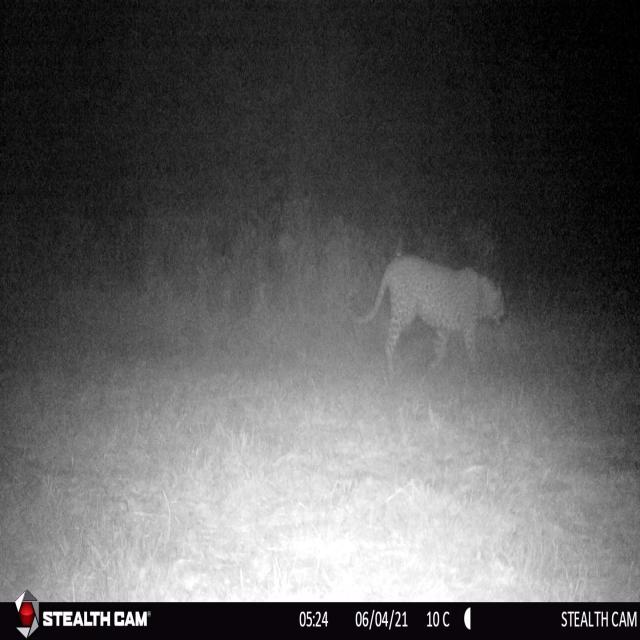Leopard: (352, 266, 513, 375)
